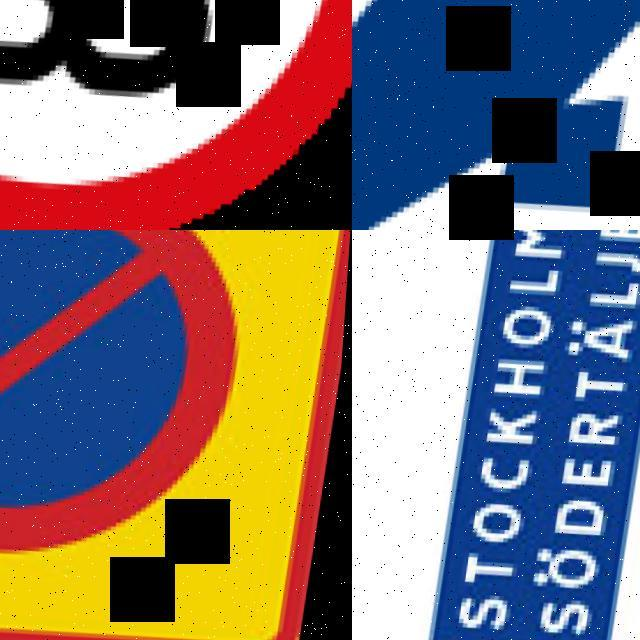5: (432, 230, 640, 640)
82: (0, 230, 352, 640)
Direction to be followed: (352, 0, 640, 230)
speed limit-80: (0, 0, 352, 230)
